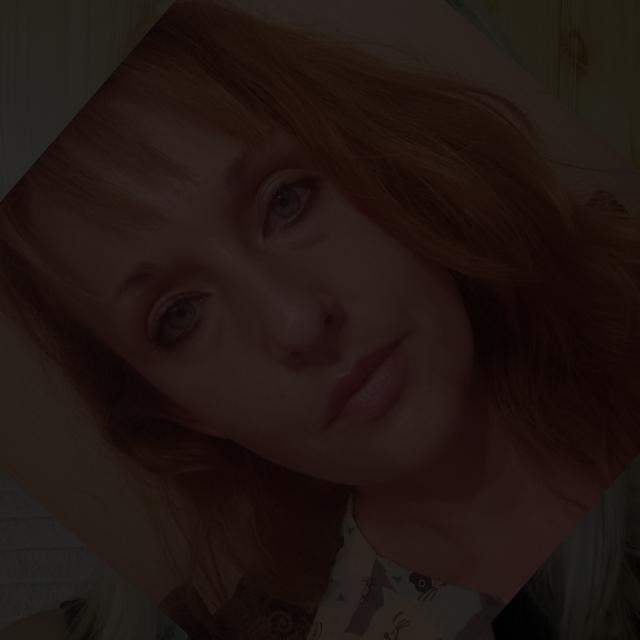Natural: (83, 102, 496, 569)
